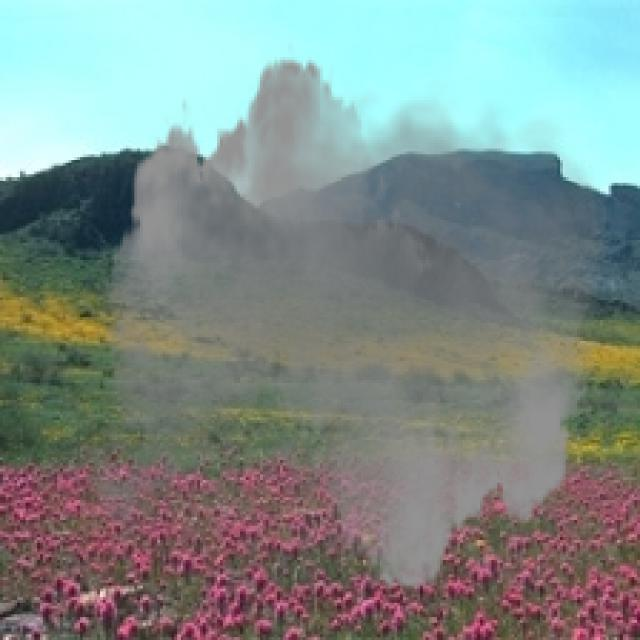Smoke: (65, 40, 620, 609)
